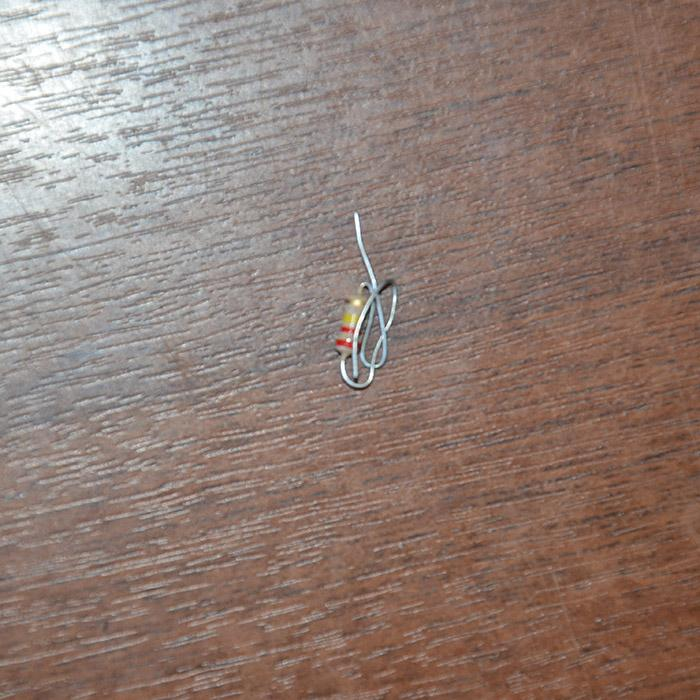resistor: (336, 292, 365, 357)
